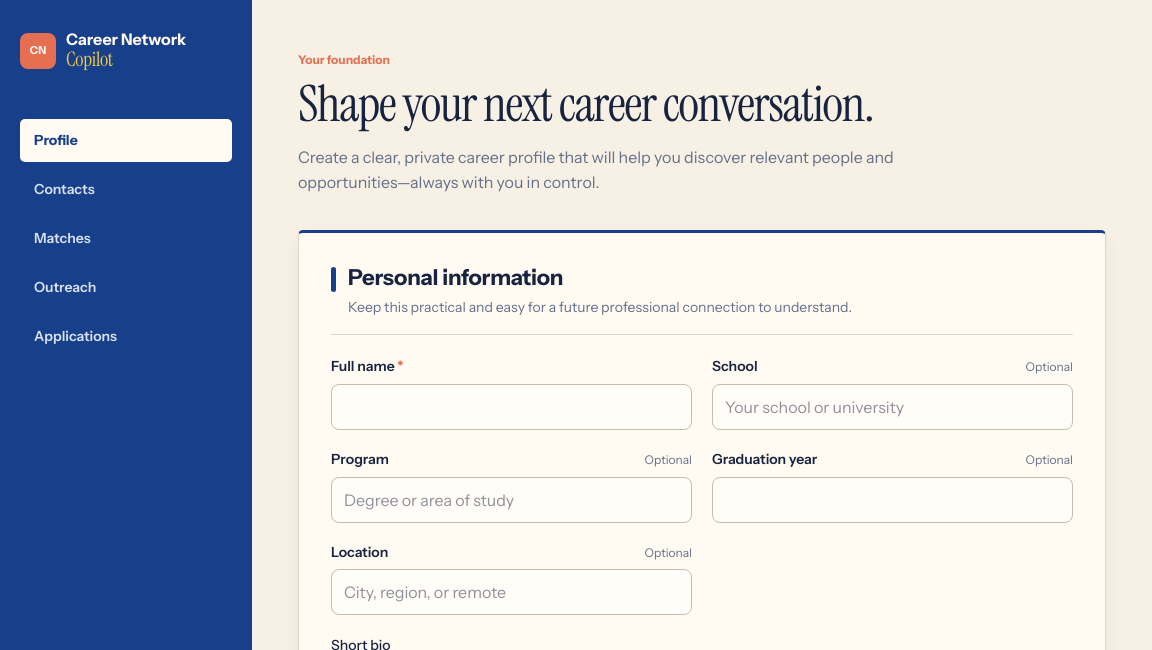
Test: student profile onboarding › submits a valid profile and displays the returned ID
This screenshot has width=1152, height=650.
Type "Demo Student" into the field labelled "Full name".
click(512, 407); type("Demo Student")  # box [331, 384, 692, 430]
(page scrolled)
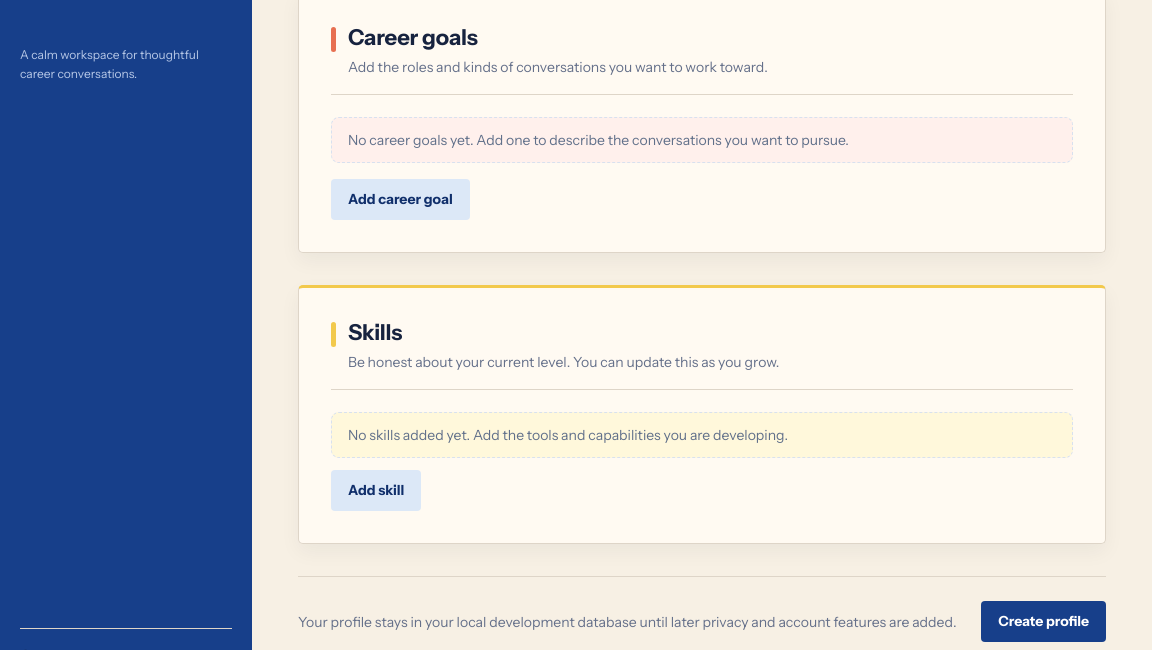
Click the button "Create profile".
click(1044, 622)  # box [981, 601, 1106, 642]
(page scrolled)
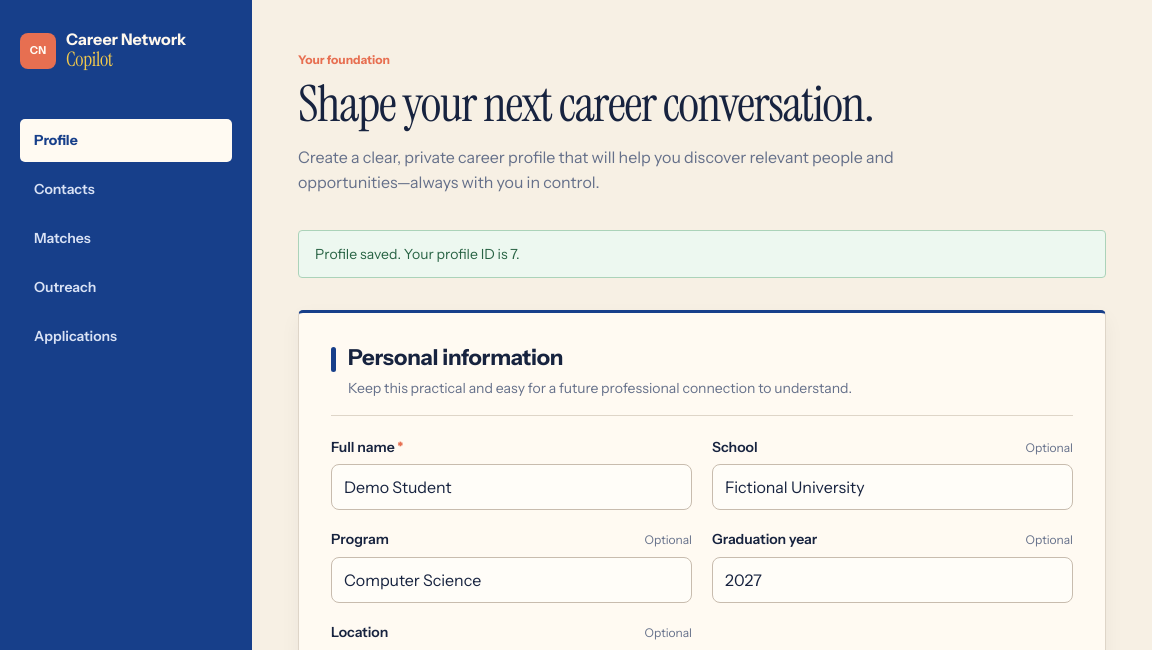
Expected: the text "Profile saved. Your profile ID is 7." is shown, [298, 230, 1106, 278]
